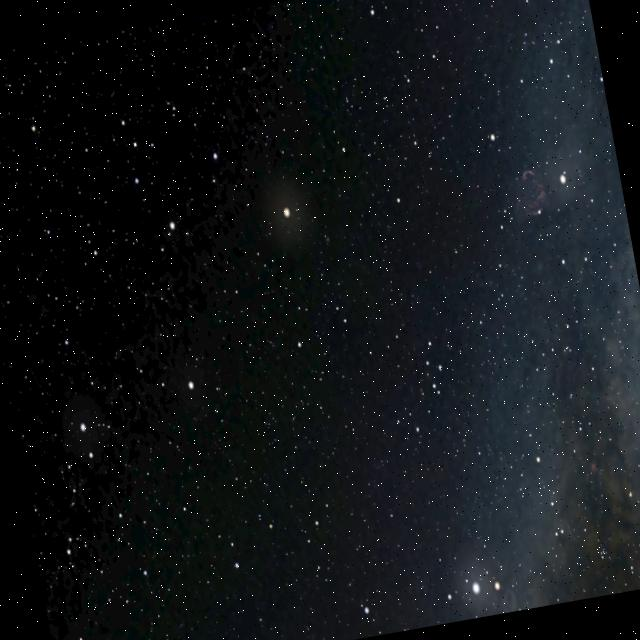Equuleus: (284, 288, 355, 352)
